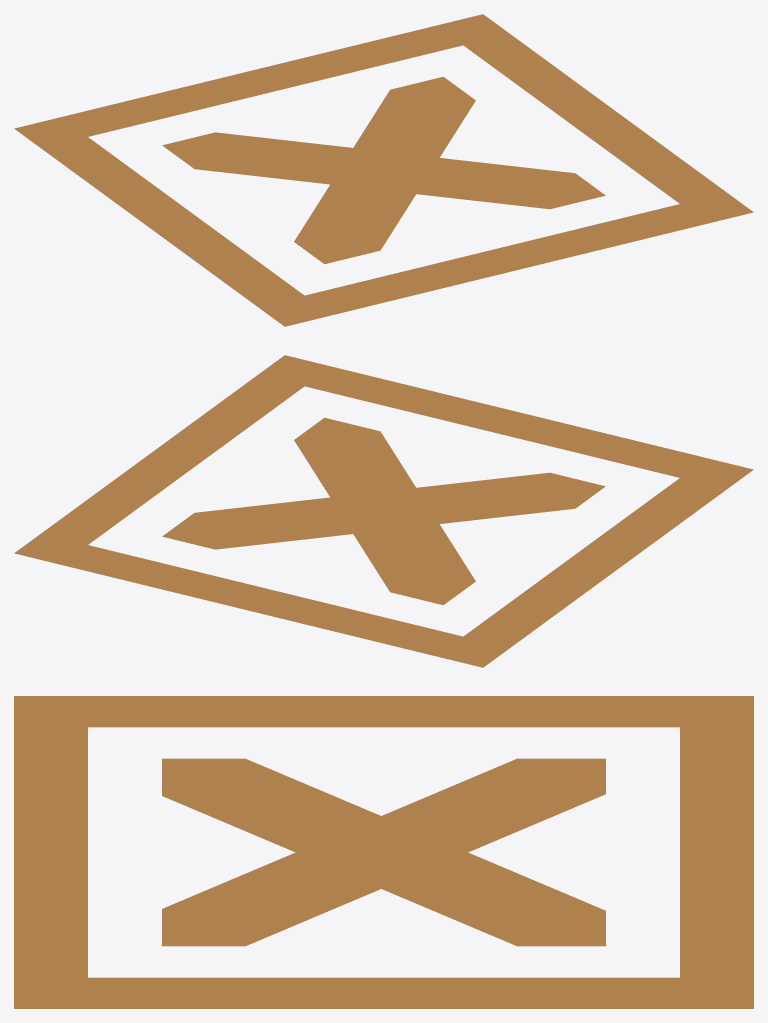
Rendered from indicator-special-cross.glb.
3 views of the same model, one above another, from view 1: azimuth 30°, elevation 25°; view 2: azimuth 150°, elevation 25°; view 3: azimuth 270°, elevation 25° (orthographic). The views are drawn at different scales.
Parts seen in each view (by area): view 1: indicator-special-cross; view 2: indicator-special-cross; view 3: indicator-special-cross.
Part boxes in pixels (x1,y1,x2,y2): indicator-special-cross: [14, 14, 753, 326]; indicator-special-cross: [14, 355, 753, 667]; indicator-special-cross: [14, 696, 753, 1008].
Bounding box in the file's own units: 1 × 0 × 1.
